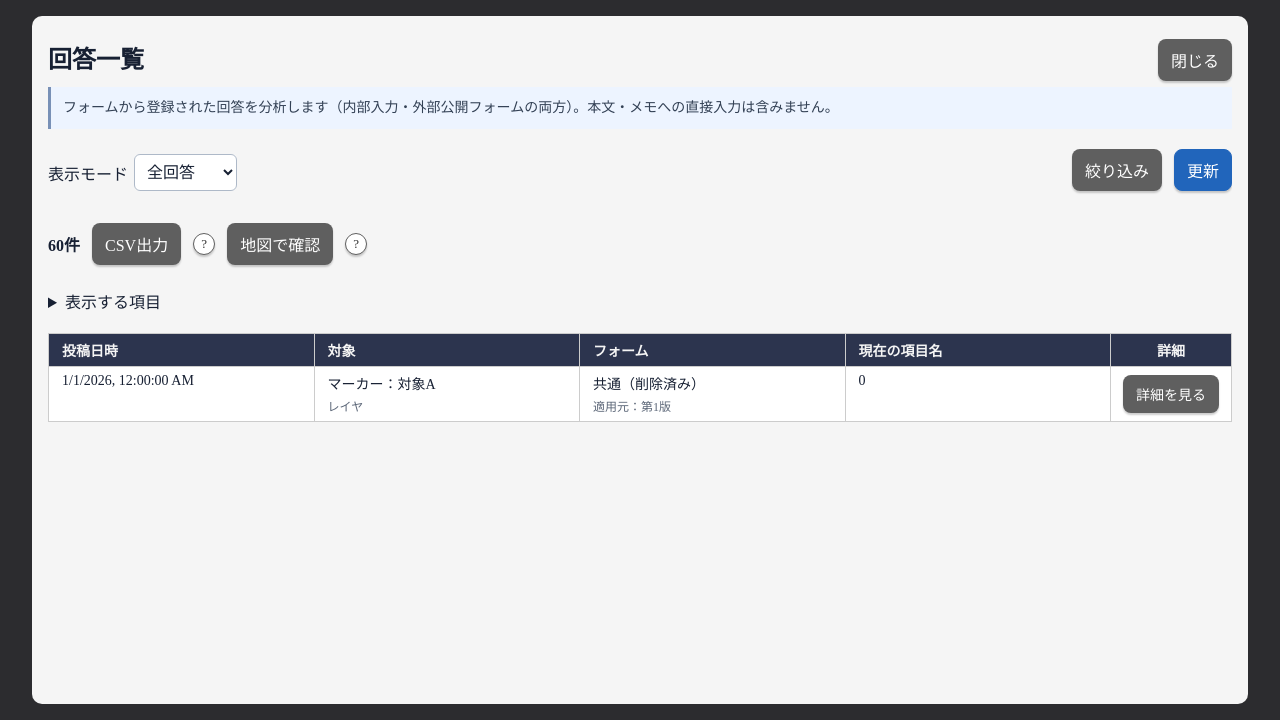
Test: 回答一覧 › 検索欄を閉じて開き、フォーム変更は明示的に反映し、適用前の一覧を保持する
Click the button "絞り込み".
click(1117, 170)  # box [1072,149,1162,191]
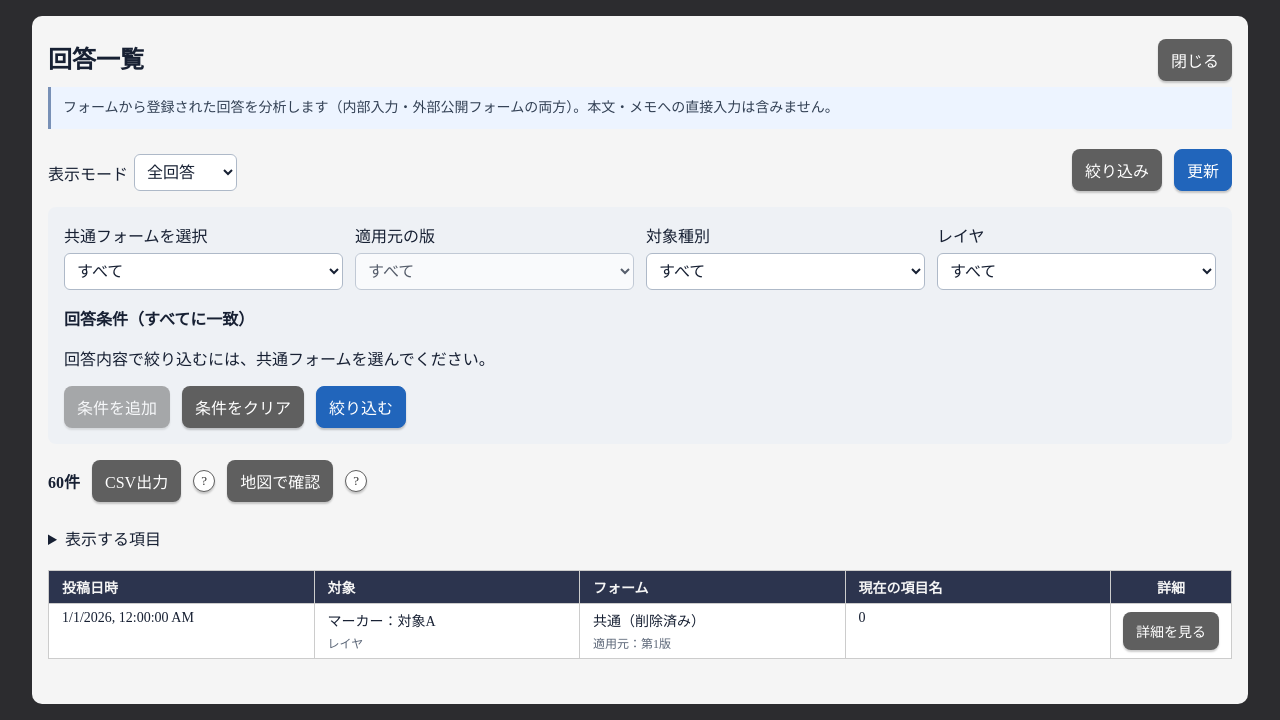
Select "共通（削除済み）" in the dropdown labelled "共通フォームを選択" at (204, 272), box [64,253,343,290]
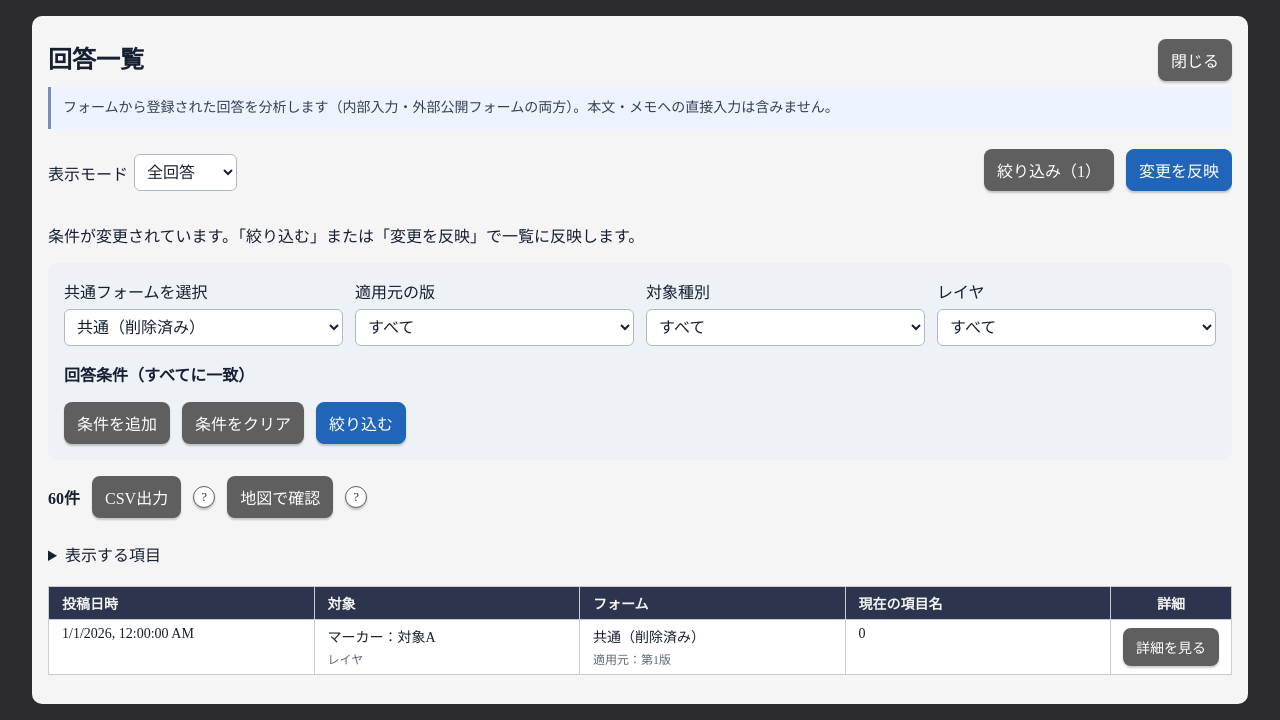
Expected: the text "60件" is shown, [48,485,80,509]
Now the text "条件が変更されています" is shown, box [48,228,644,245]
Submit the form with class "search-form", box [48,263,1232,460]
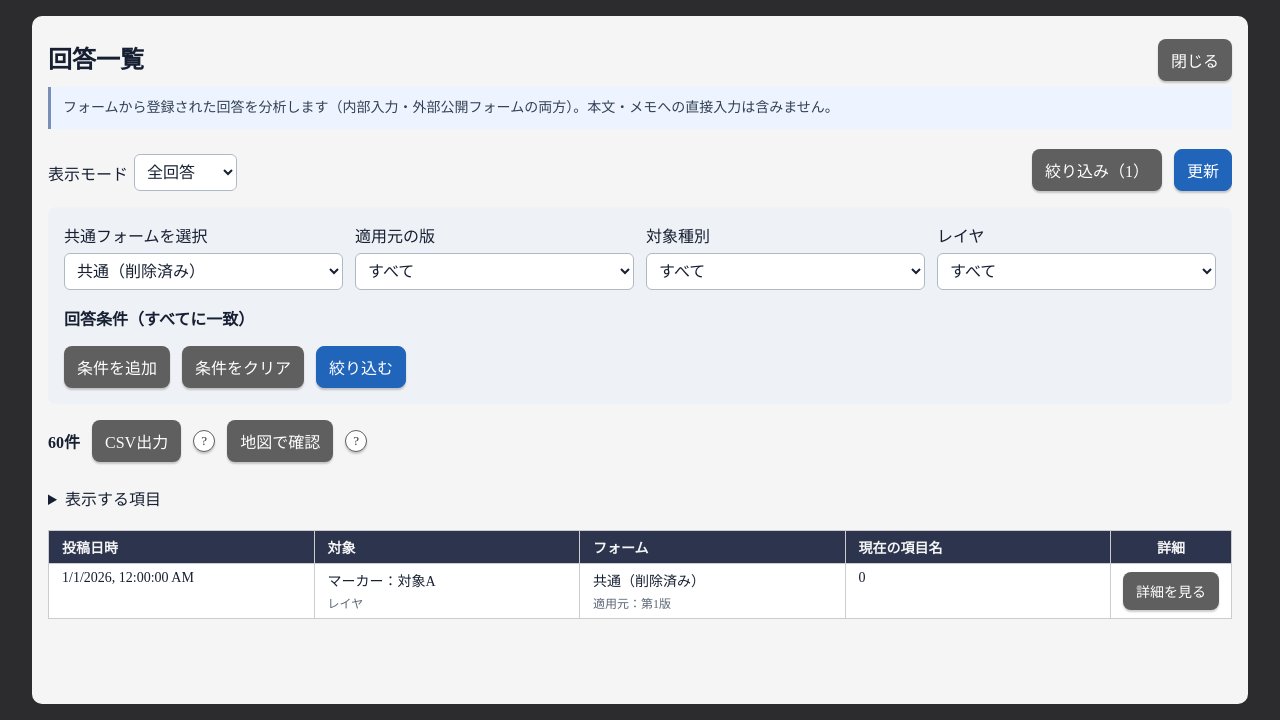
Now the text "条件が変更されています" is gone
